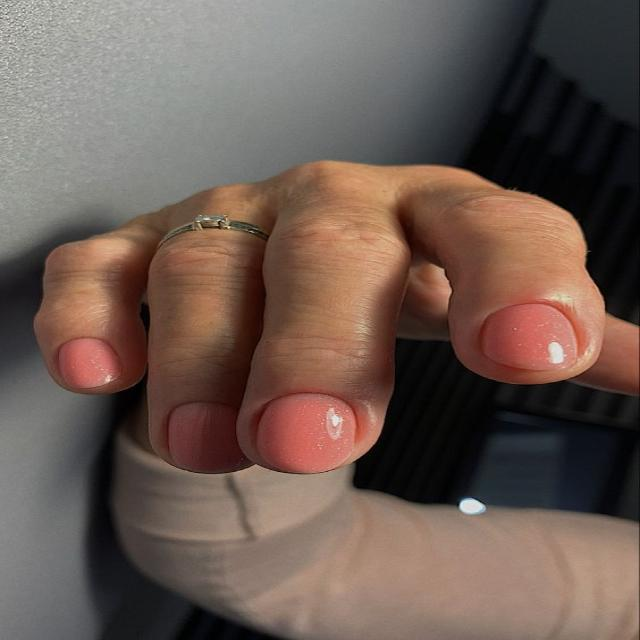Fingernail: (256, 395, 357, 475), (482, 303, 577, 371), (168, 402, 247, 473), (59, 338, 120, 389)
